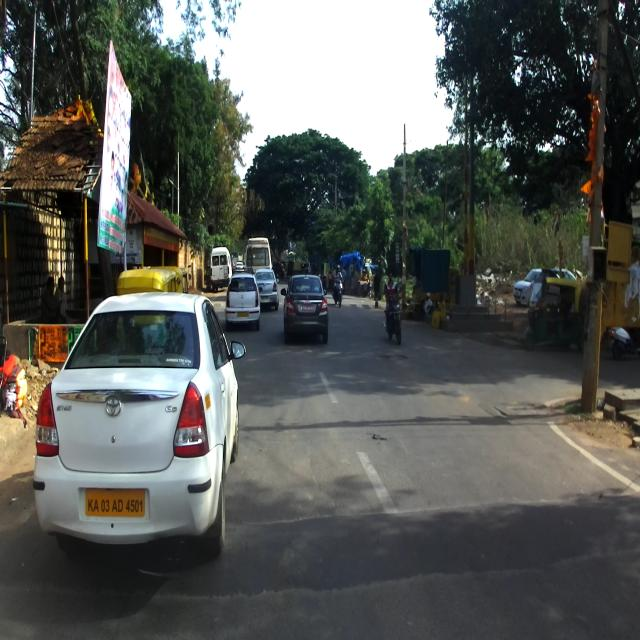car ahead at: (39, 293, 245, 560), (280, 269, 335, 344)
electric pole ahead at: (578, 5, 616, 412)
